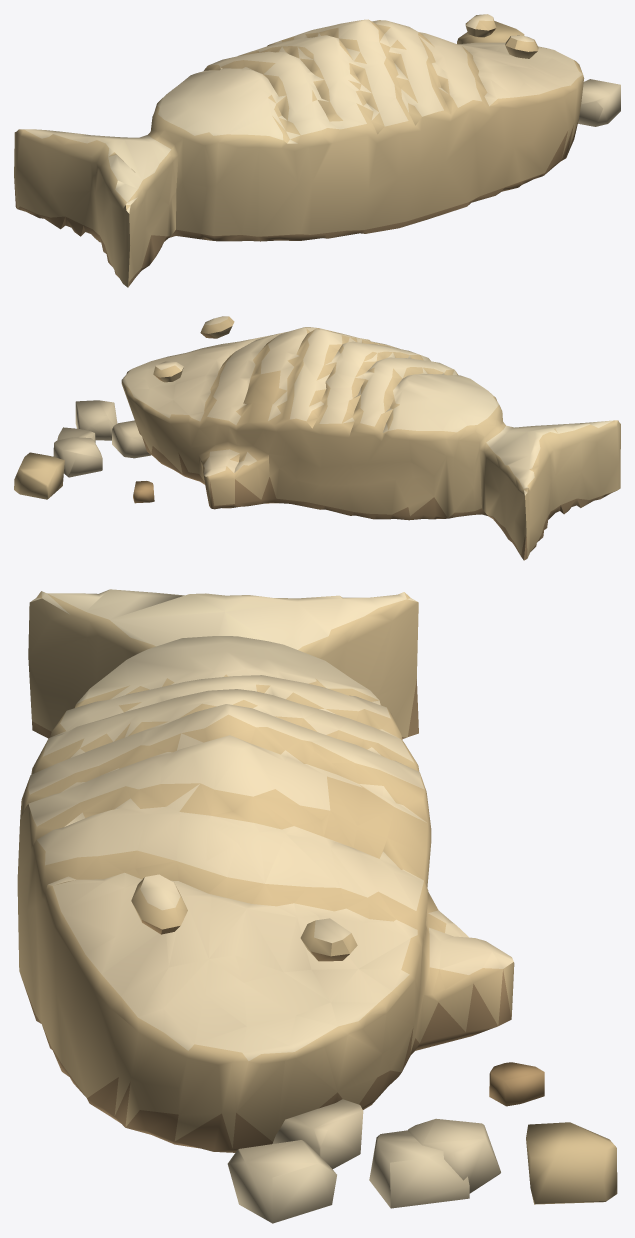
File: shore_sand_pie_b.glb
3 views of the same model, one above another, from view 1: azimuth 30°, elevation 25°; view 2: azimuth 150°, elevation 25°; view 3: azimuth 270°, elevation 25° (orthographic). The views are drawn at different scales.
Parts seen in each view (by area): view 1: shore_sand_pie_b; view 2: shore_sand_pie_b; view 3: shore_sand_pie_b.
Boxes of the visible parts, x1=… form: shore_sand_pie_b: x1=14, y1=14, x2=620, y2=287; shore_sand_pie_b: x1=14, y1=316, x2=620, y2=560; shore_sand_pie_b: x1=17, y1=589, x2=617, y2=1223.
Size of the model in its own units: 6.14 by 1.73 by 3.27.
